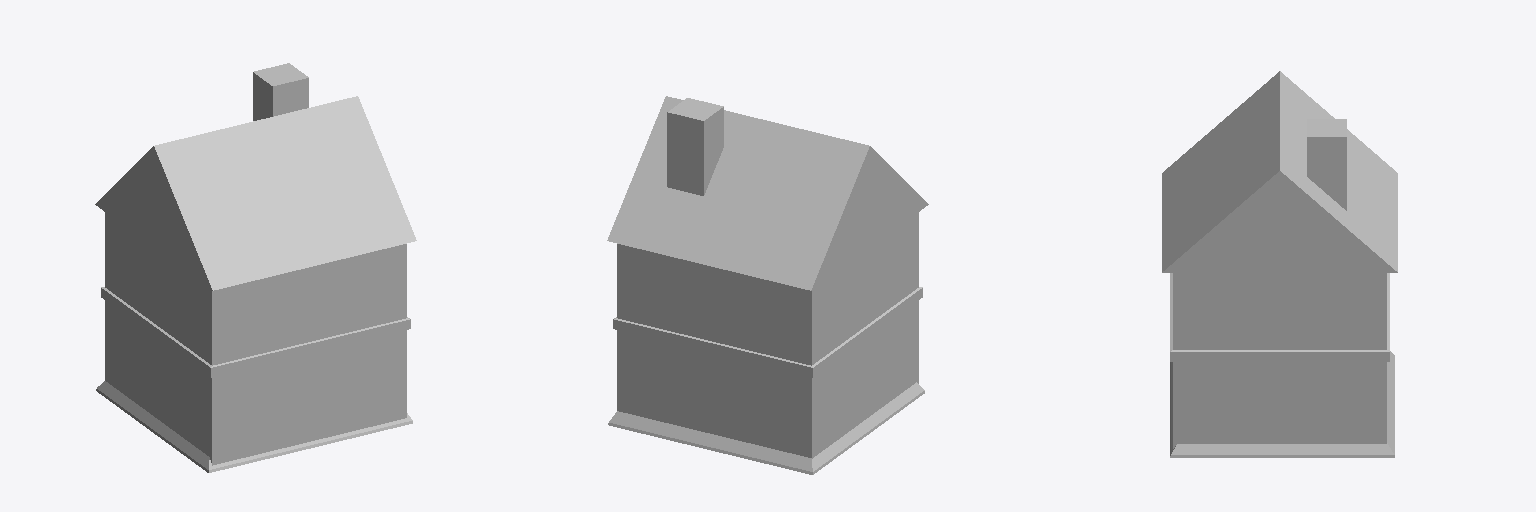
The model's file is house_9.obj.
3 renders of one model, left to right at view 1: azimuth 30°, elevation 25°; view 2: azimuth 150°, elevation 25°; view 3: azimuth 270°, elevation 25°, orthographic.
Parts seen in each view (by area): view 1: Cube.041_Cube.049; view 2: Cube.041_Cube.049; view 3: Cube.041_Cube.049.
Boxes of the visible parts, <box> form: Cube.041_Cube.049: <box>95,63,416,472</box>; Cube.041_Cube.049: <box>607,96,928,474</box>; Cube.041_Cube.049: <box>1162,71,1397,457</box>.
Bounding box in the file's own units: 6.31 × 8.95 × 6.29.